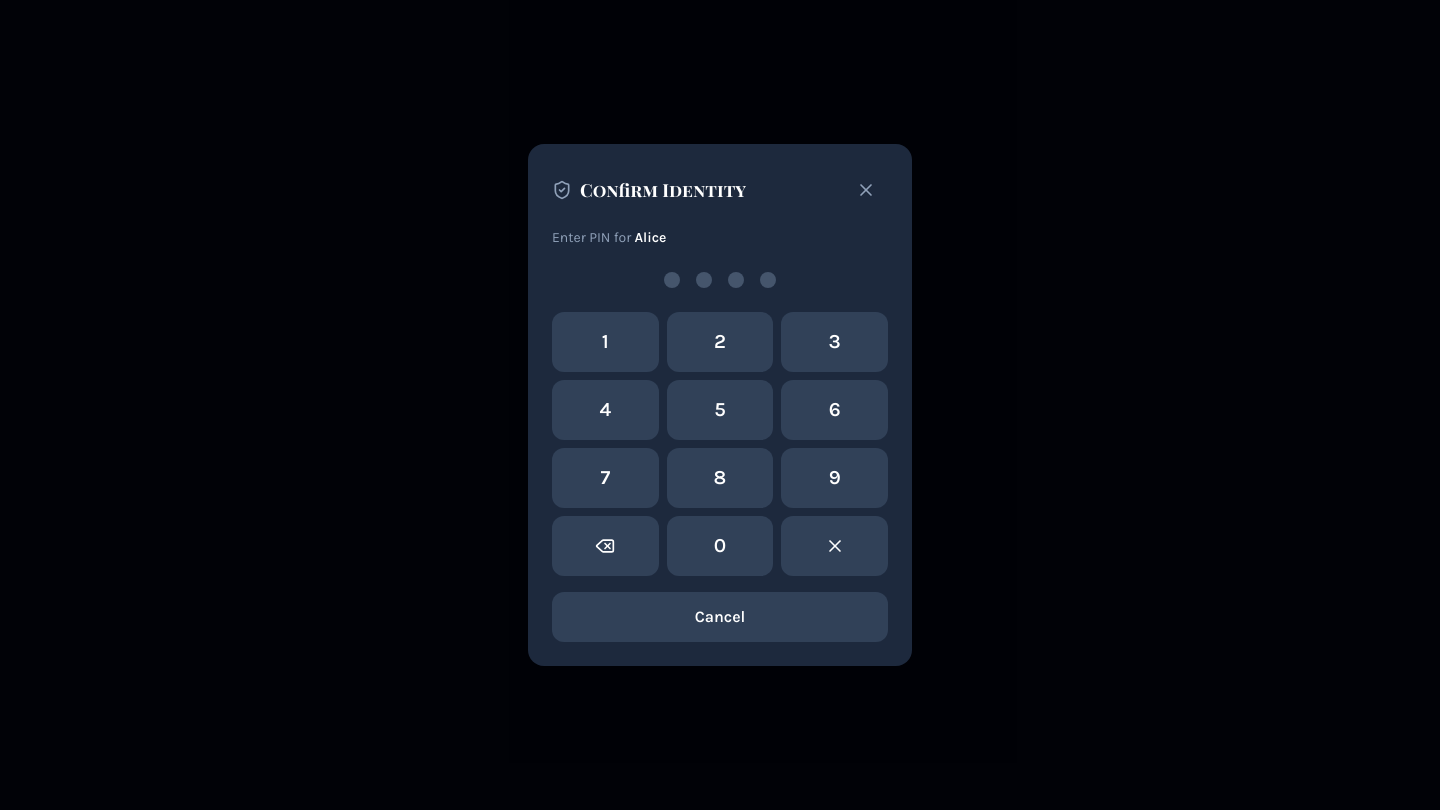
Scenario: PinGate › shows generic error on network failure
The image size is (1440, 810).
Click the button "1". click: x=605, y=342
box: 552,312 -> 659,372
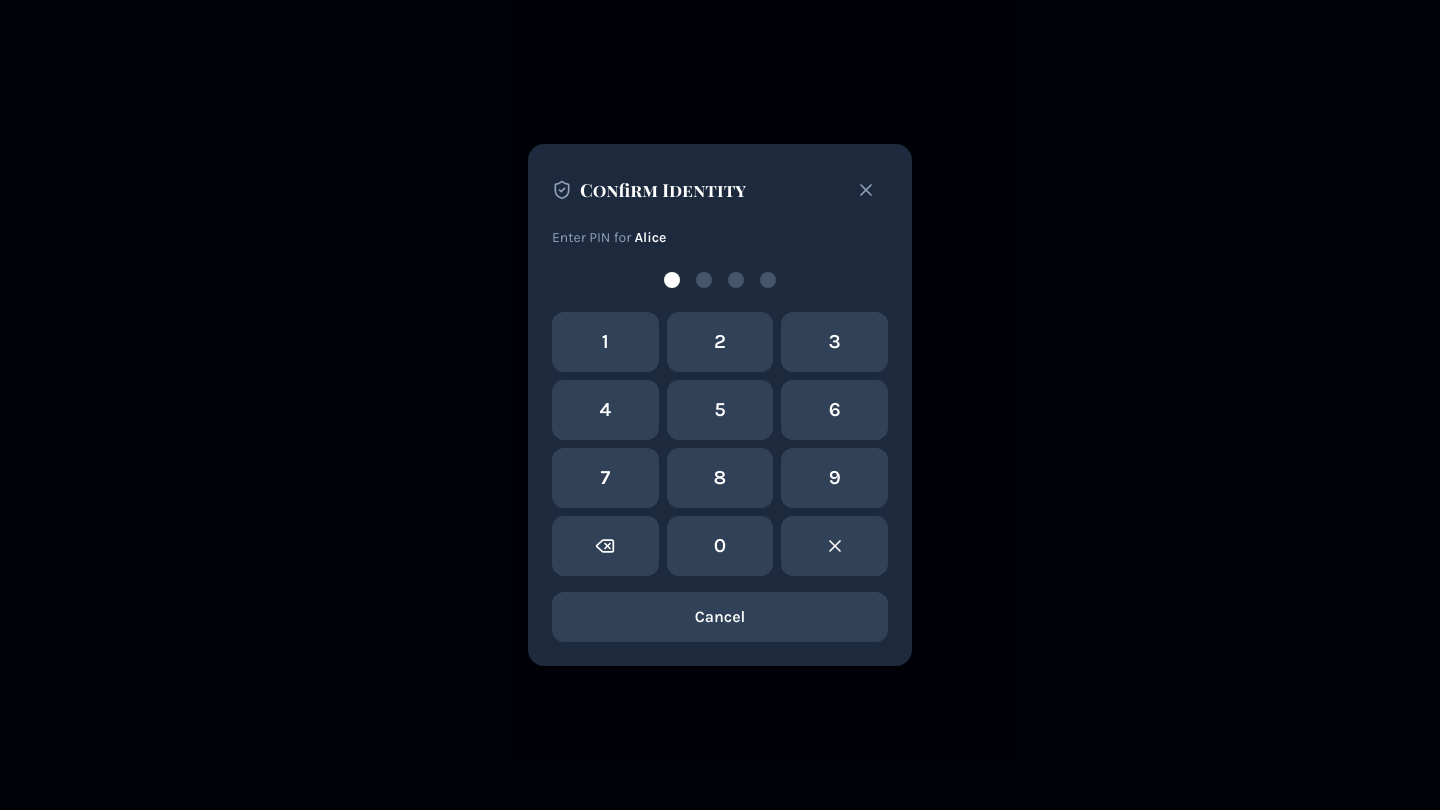
Click the button "2". click: x=720, y=342
box: 667,312 -> 773,372
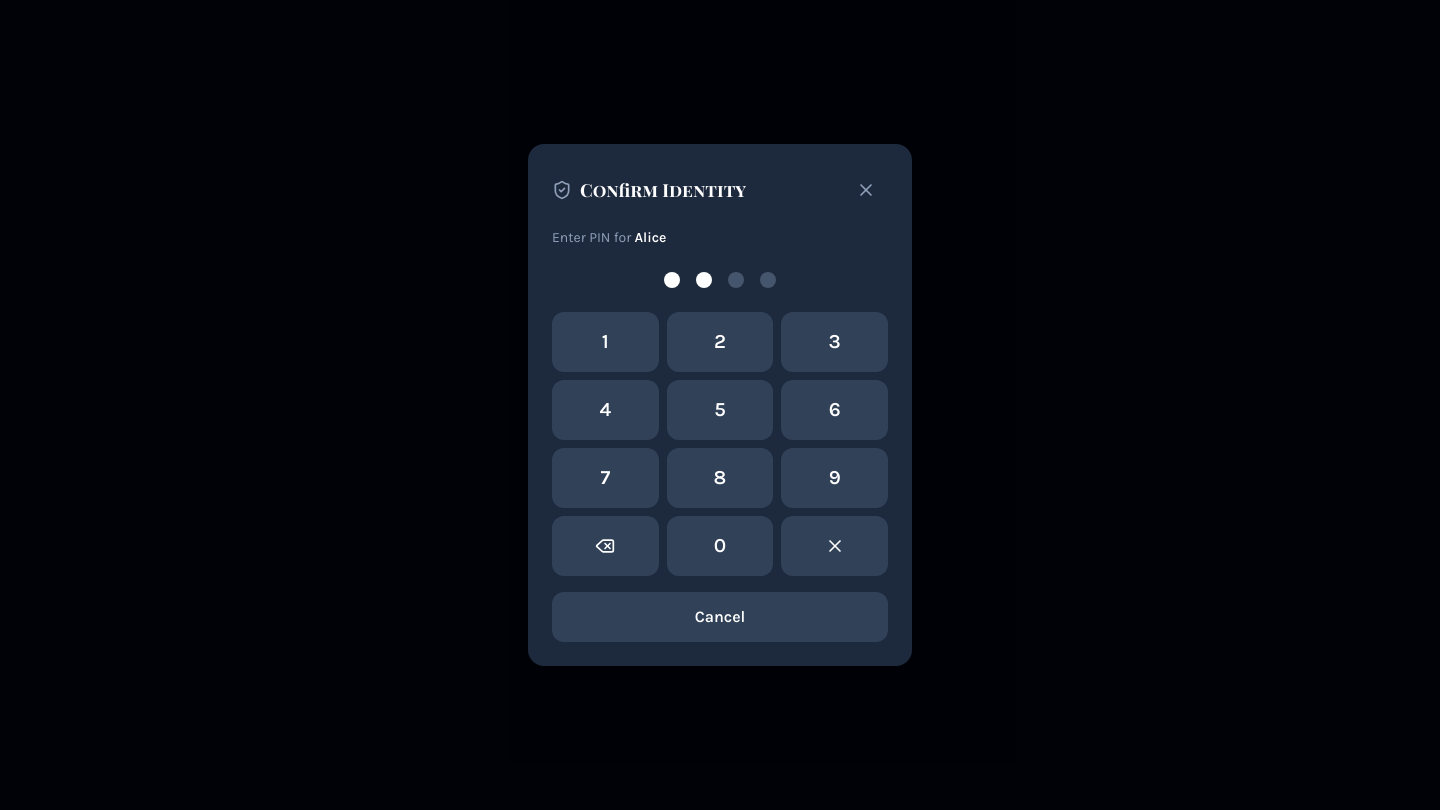
Click the button "3". click: x=835, y=342
box: 781,312 -> 888,372
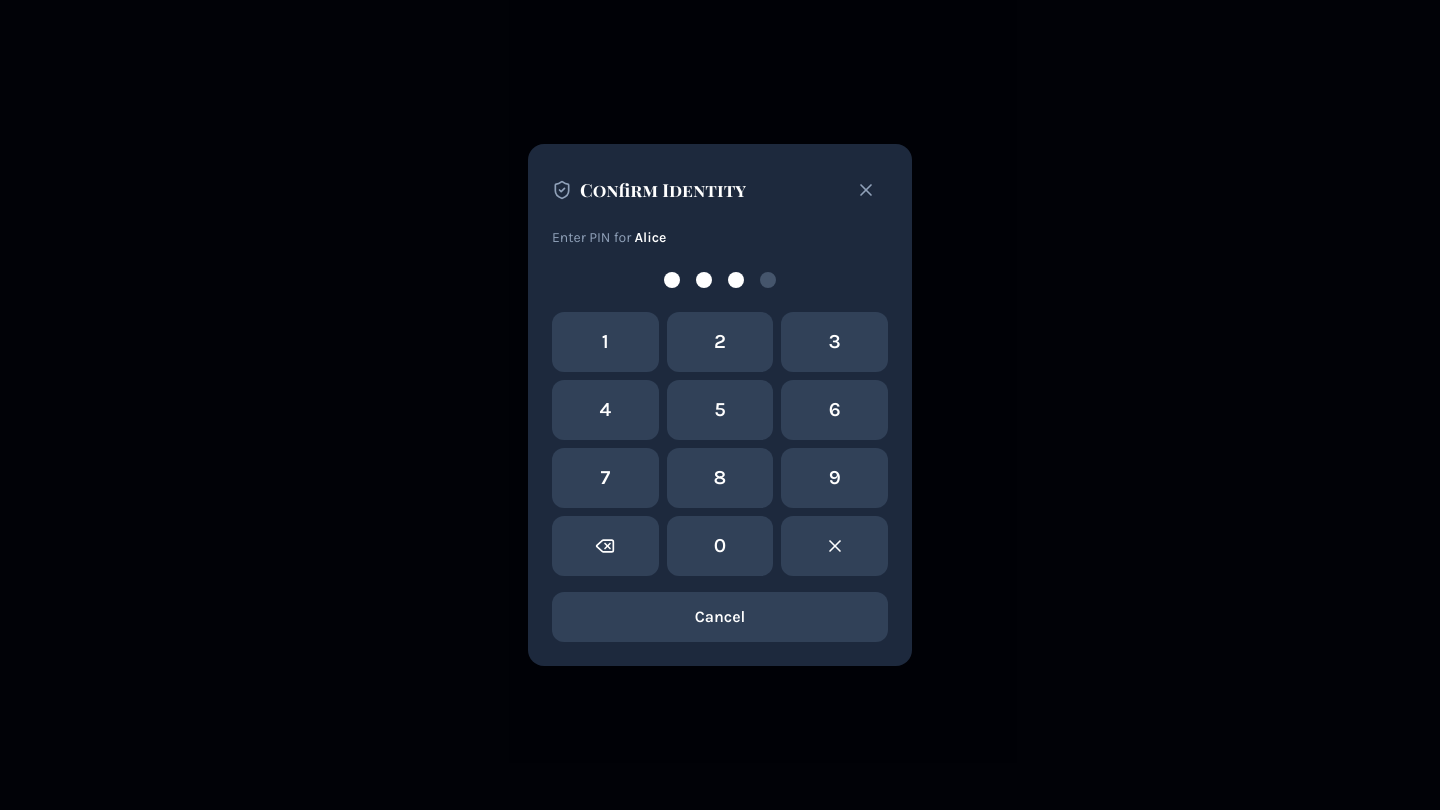
Click the button "4". click: x=605, y=410
box: 552,380 -> 659,440
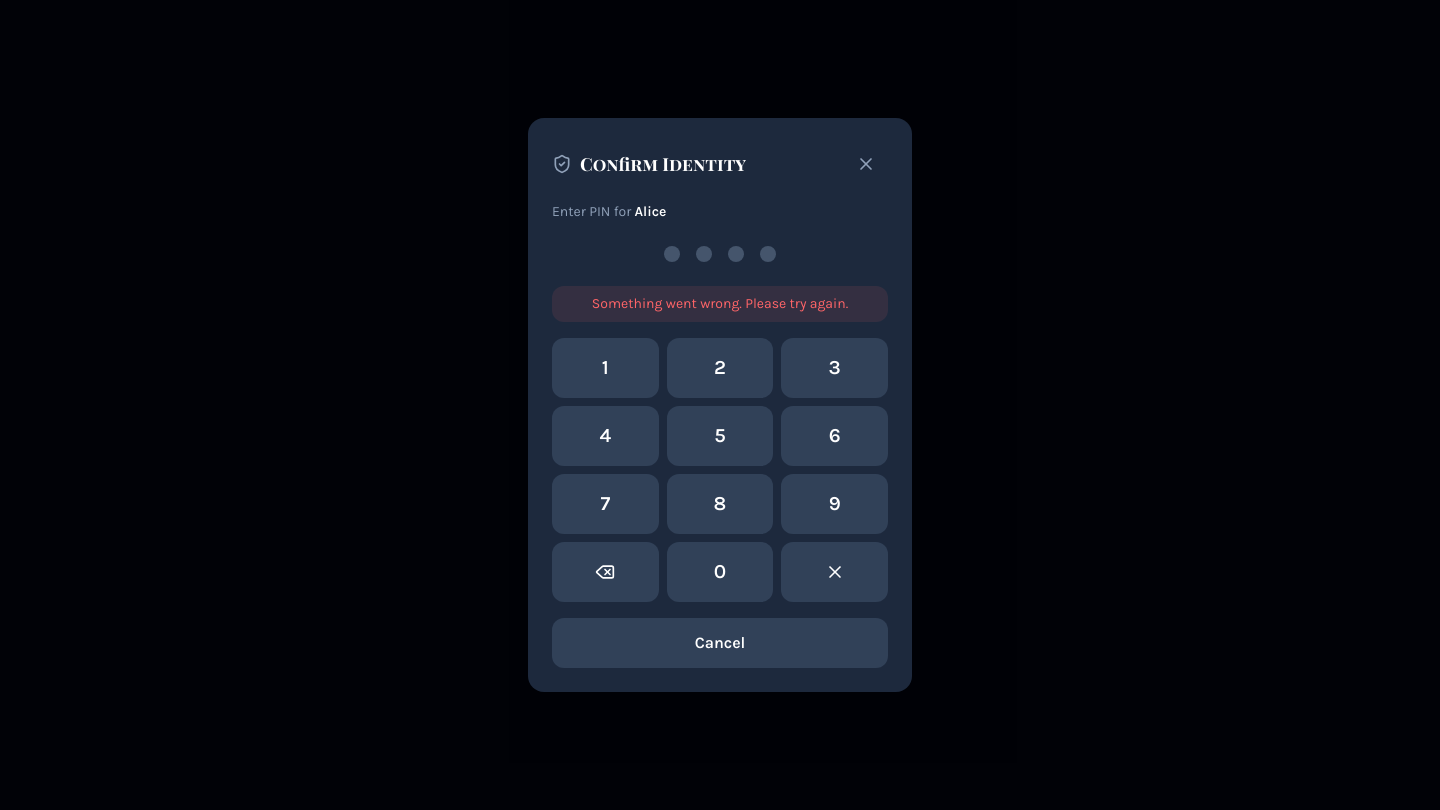
Check: the message shows "Something went wrong", box 592,295 -> 848,312
